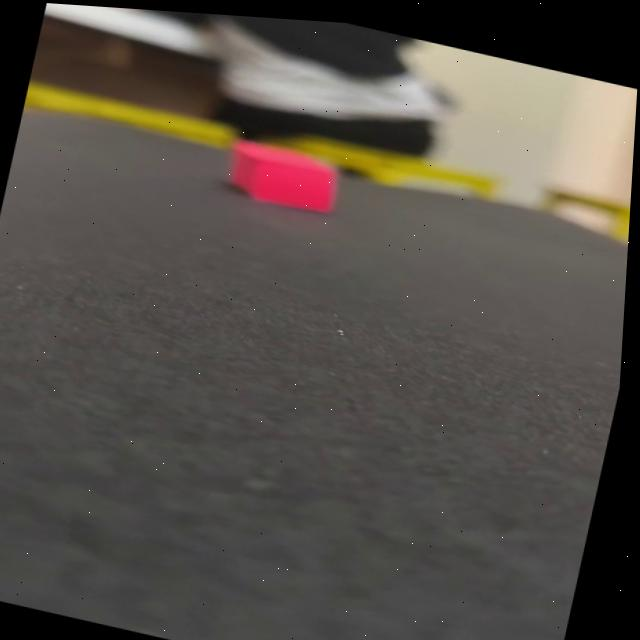red block: (218, 133, 345, 218)
